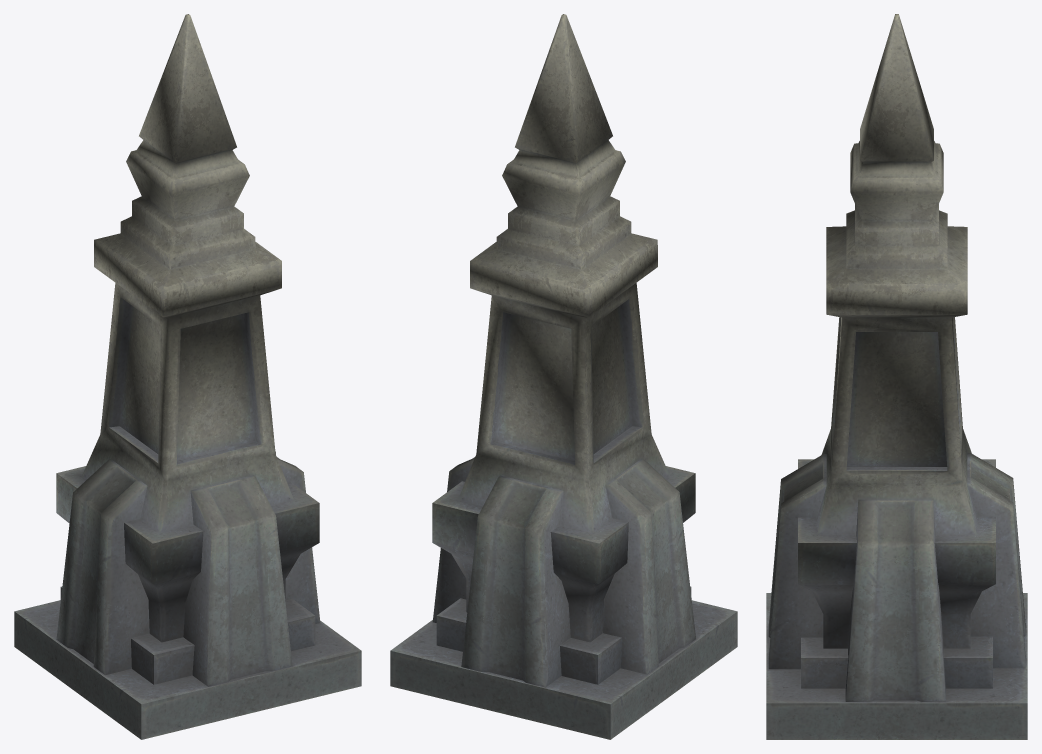
The model's file is AD_Pillar_D_01.fbx.
3 views of the same model, side by side, from view 1: azimuth 30°, elevation 25°; view 2: azimuth 150°, elevation 25°; view 3: azimuth 270°, elevation 25° (orthographic). The views are drawn at different scales.
Parts seen in each view (by area): view 1: AD_Pillar_D_01; view 2: AD_Pillar_D_01; view 3: AD_Pillar_D_01.
Part boxes in pixels (left/top/right/bottom): AD_Pillar_D_01: left=14, top=14, right=361, bottom=739; AD_Pillar_D_01: left=390, top=14, right=737, bottom=739; AD_Pillar_D_01: left=766, top=14, right=1027, bottom=739.
Size of the model in its own units: 368 by 1042 by 368.
Materials: 1 (1 with a texture image).
